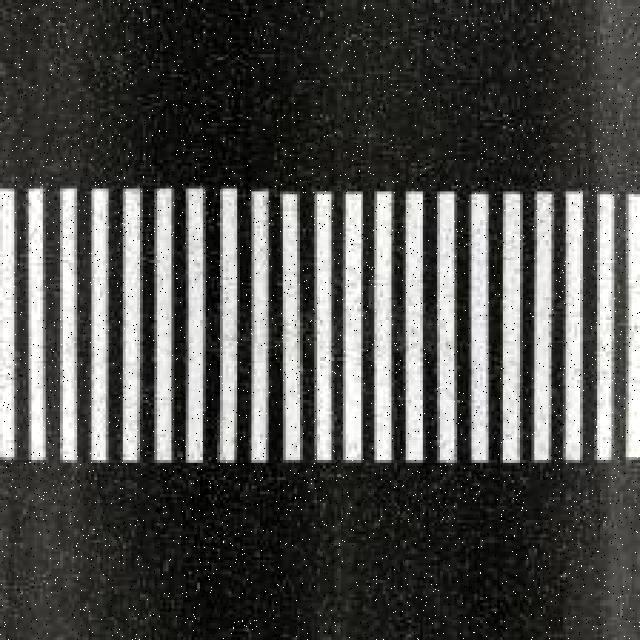crosswalk: (0, 173, 640, 462)
